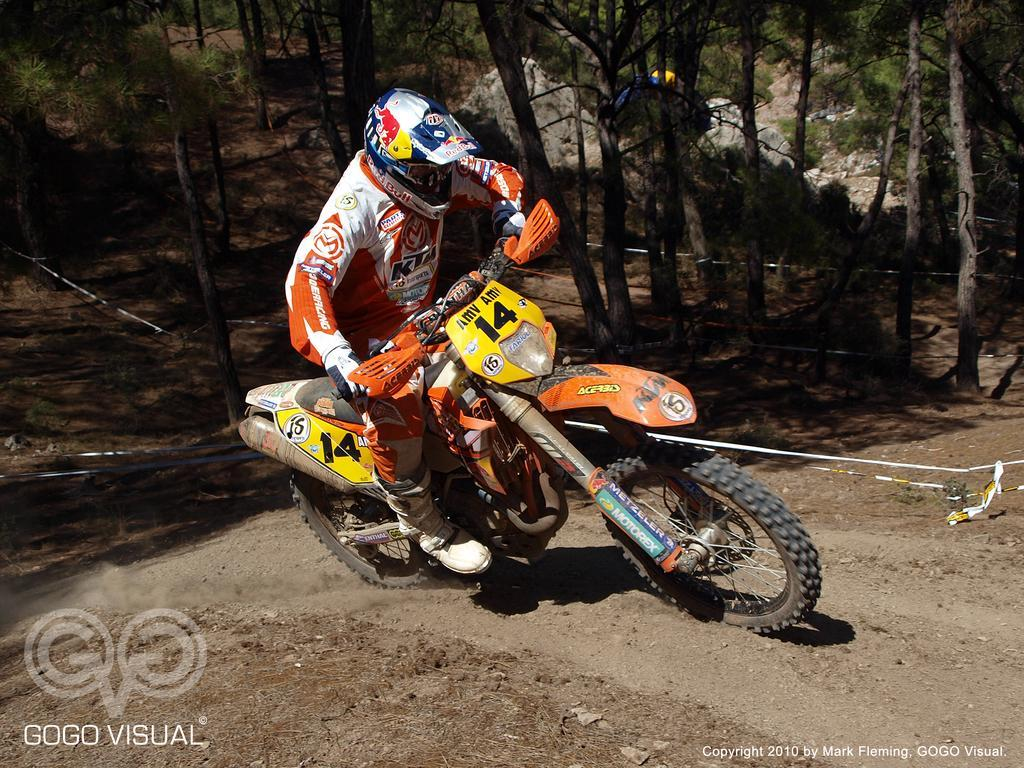helmet: (363, 87, 485, 221)
